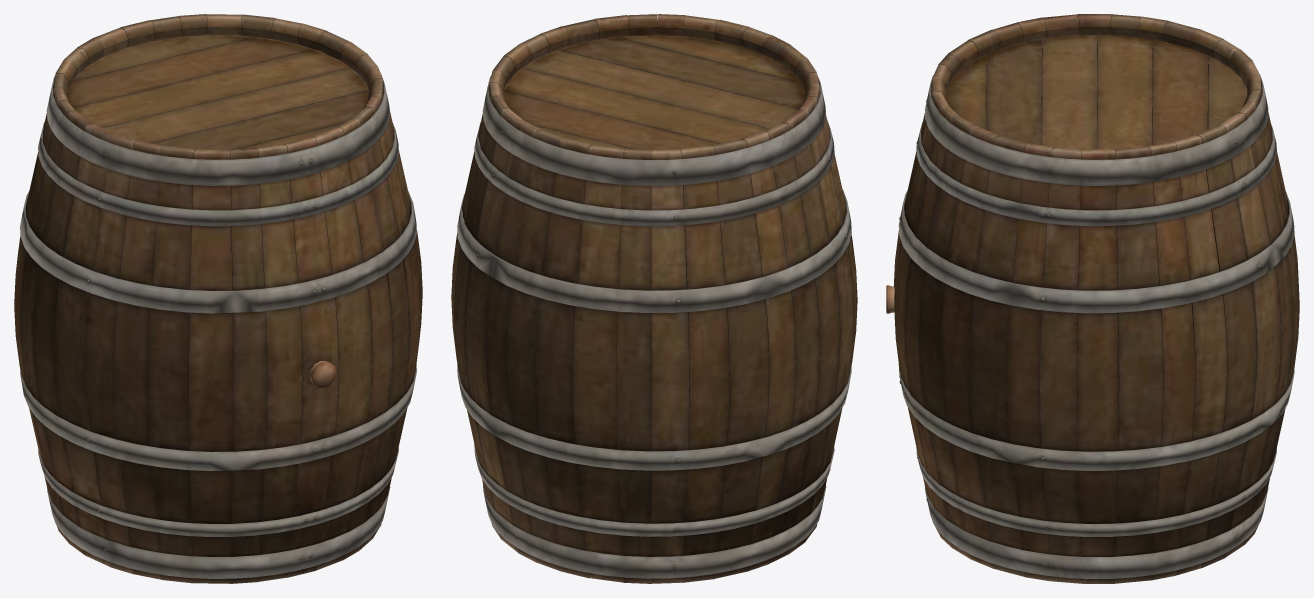
The model's file is wine_barrel_01.glb.
3 renders of one model, left to right at view 1: azimuth 30°, elevation 25°; view 2: azimuth 150°, elevation 25°; view 3: azimuth 270°, elevation 25°, orthographic.
Parts seen in each view (by area): view 1: wine_barrel_01_Lid; view 2: wine_barrel_01_Lid; view 3: wine_barrel_01_Lid.
Boxes of the visible parts, x1,y1,x2,y2 form: wine_barrel_01_Lid: [14, 14, 422, 583]; wine_barrel_01_Lid: [451, 14, 857, 583]; wine_barrel_01_Lid: [886, 14, 1299, 583].
Bounding box in the file's own units: 0.7419 × 0.8695 × 0.7554.
Materials: 1 (1 with a texture image).
